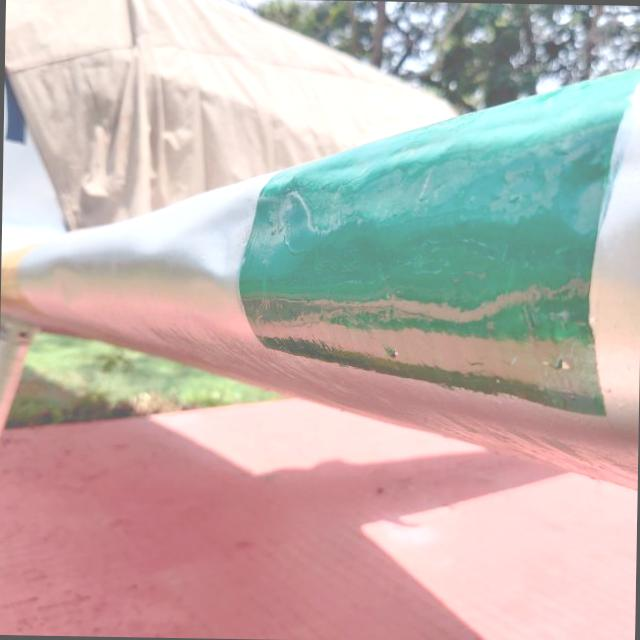dent: (156, 170, 312, 303), (526, 125, 640, 263)
